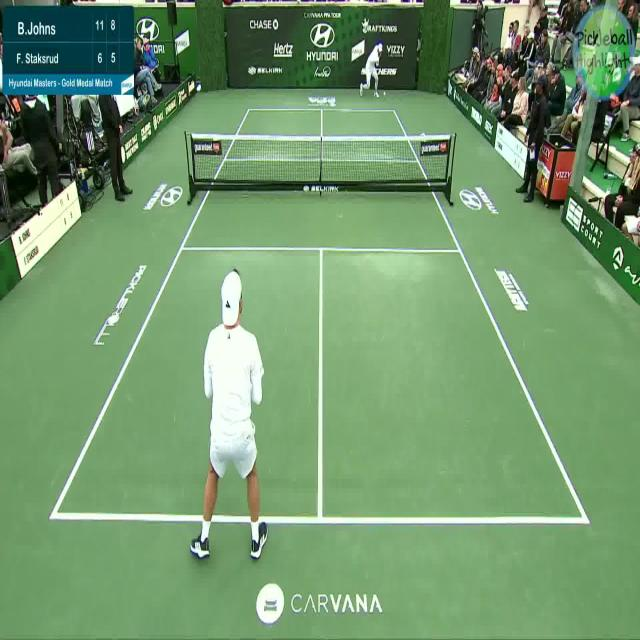ball: (382, 89, 388, 97)
